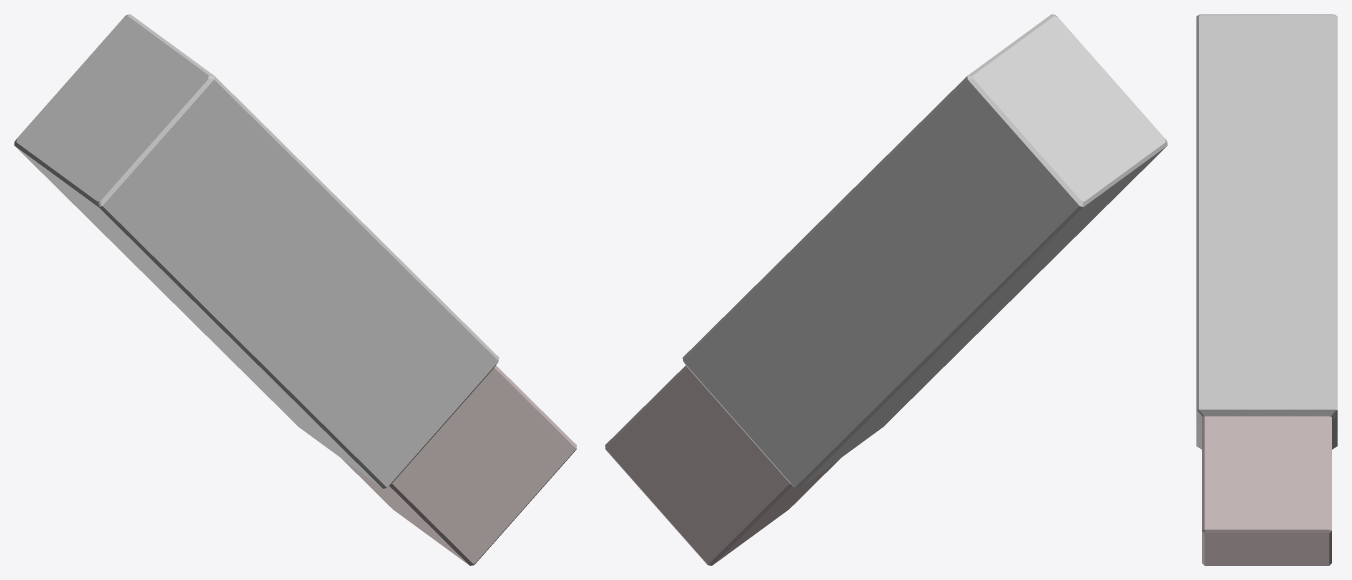
The model's file is MaleLARM.obj.
3 renders of one model, left to right at view 1: azimuth 30°, elevation 25°; view 2: azimuth 150°, elevation 25°; view 3: azimuth 270°, elevation 25°, orthographic. The views are drawn at different scales.
Visible parts, largest first — view 1: MaleLARM; view 2: MaleLARM; view 3: MaleLARM.
Part boxes in pixels (<box>): MaleLARM: <box>14,14,576,565</box>; MaleLARM: <box>605,14,1167,565</box>; MaleLARM: <box>1196,14,1337,565</box>.
Size of the model in its own units: 2.52 by 2.78 by 0.7966.
